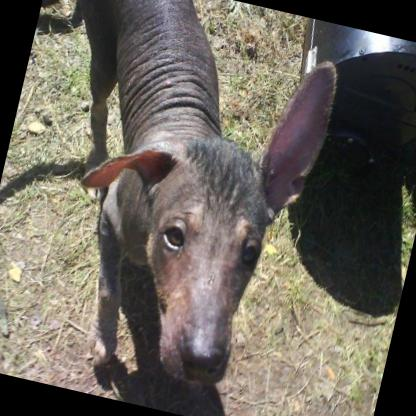Mexican_hairless: (0, 0, 352, 416)
